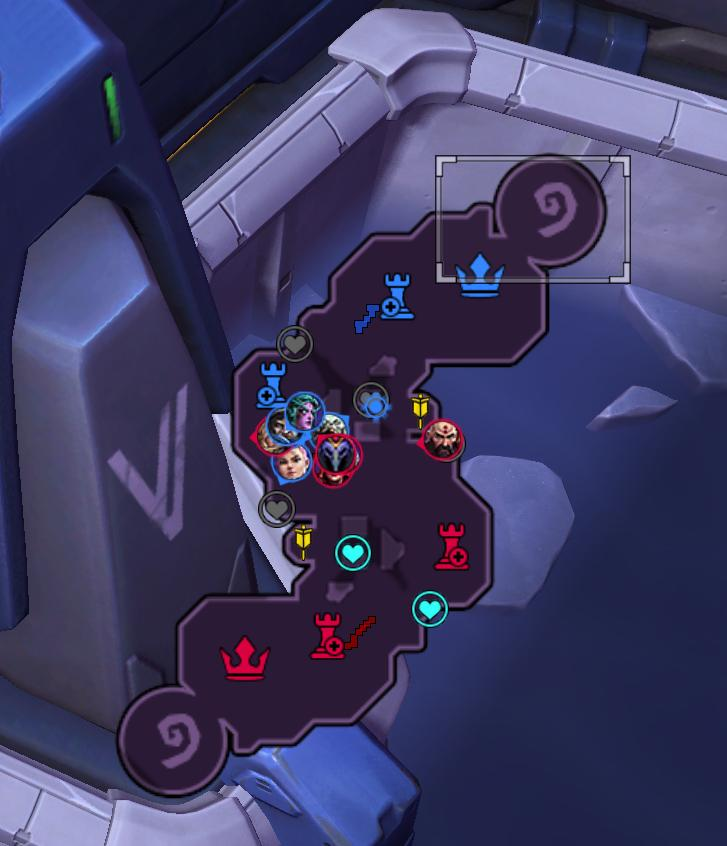blue player: (270, 444, 313, 486), (283, 392, 324, 436)
red player: (250, 413, 299, 460), (418, 417, 466, 463), (318, 436, 355, 479), (318, 465, 349, 486)
